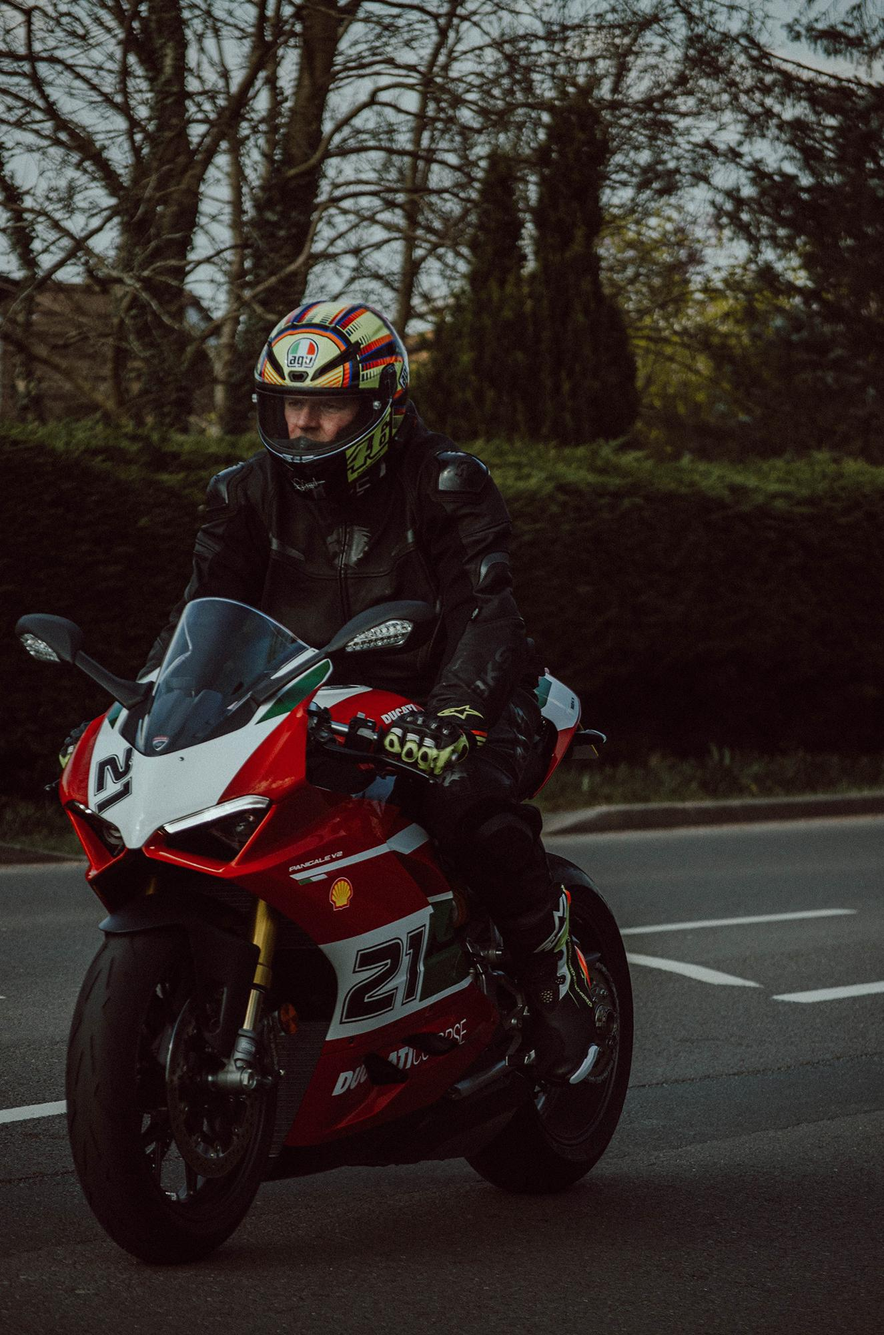helmet: (250, 299, 412, 503)
